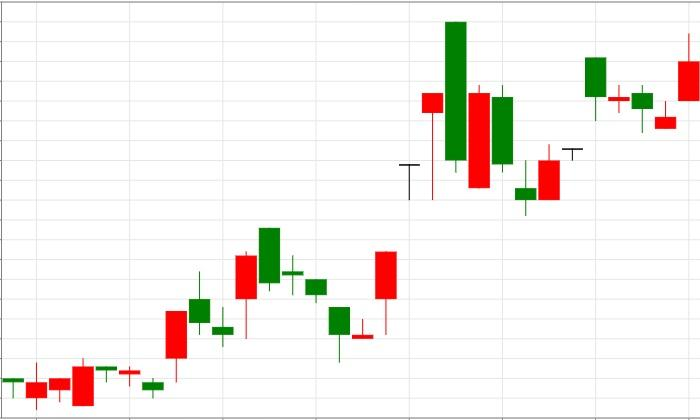hanging_man_fall: (329, 93, 444, 363)
